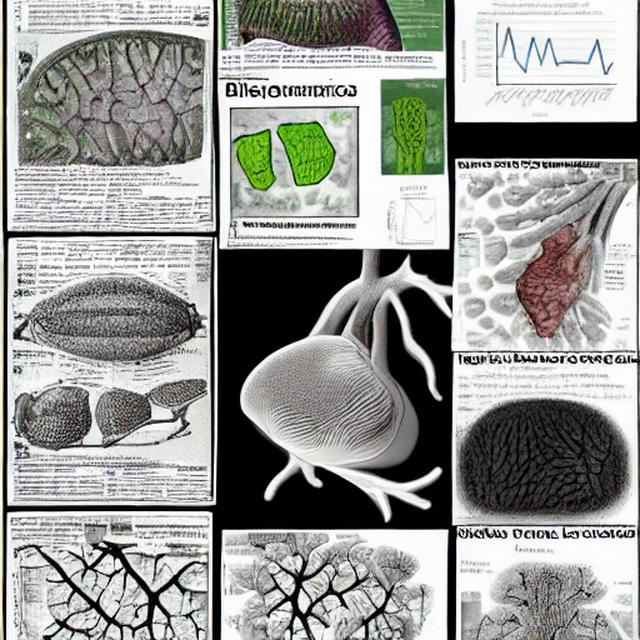Graph: (455, 0, 624, 121), (378, 193, 449, 246)
